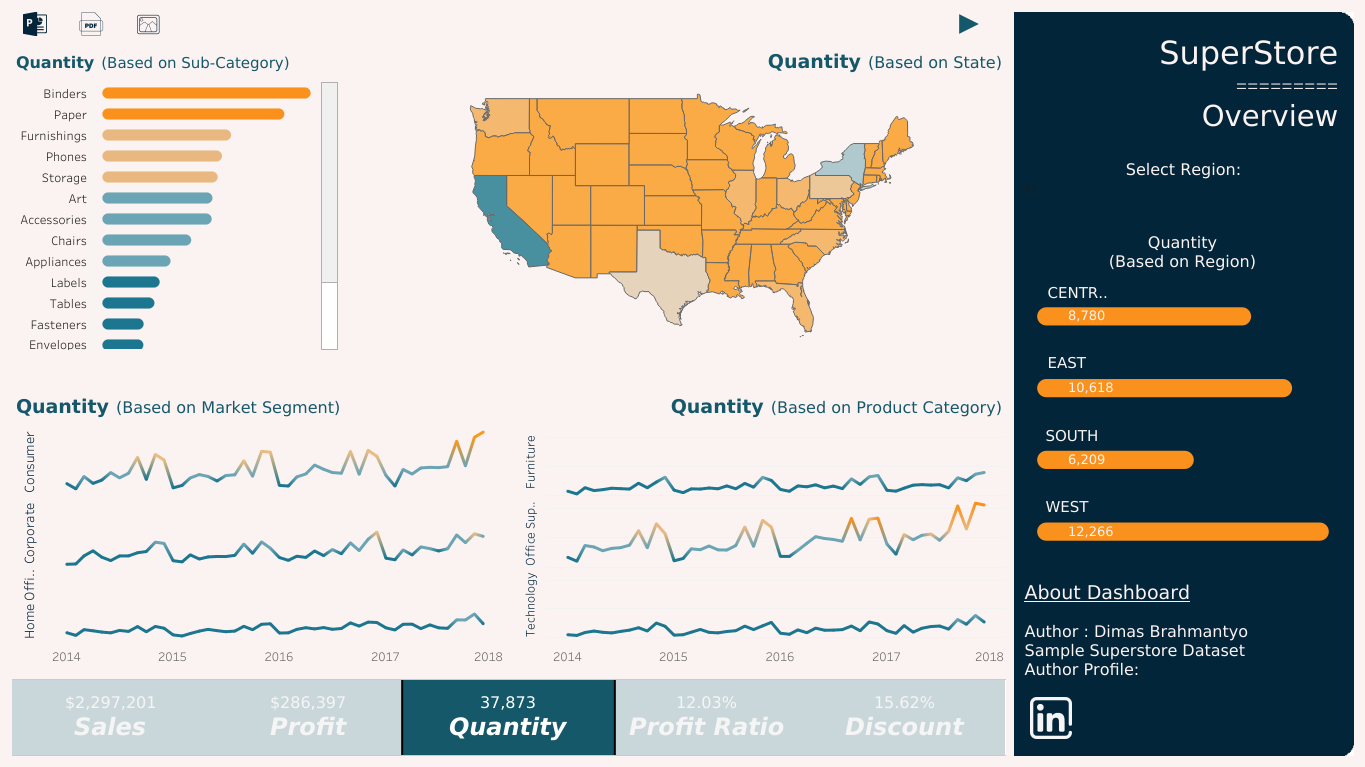

This screenshot's page, from the dashboard's own definition file:
{"tool":"tableau","page":{"name":"Dashboard 1 - Overview","canvas":[1366,768],"ordinal":0},"visuals":[{"type":"dashboard-object","box":[8,8,54,32]},{"type":"dashboard-object","box":[62,8,60,32]},{"type":"dashboard-object","box":[122,8,53,32]},{"type":"worksheet","title":"Next","mark":"Shape","rows":["Calculation_132293265469534221"],"box":[928,8,82,32]},{"type":"image","param":"Image/2.png","box":[1010,8,348,752]},{"type":"text","box":[1025,21,316,125]},{"type":"worksheet","title":"Sub Category Chart","mark":"Line","rows":["Sub-Category"],"box":[8,40,334,313]},{"type":"worksheet","title":"Based on State Map Chart","mark":"Automatic","box":[374,40,636,313]},{"type":"filter","title":"Based on State Map Chart","param":"[federated.1u37z9d020ffhv1e04nla11qurtp].[a1. Select Region Set]","box":[1022,159,323,55]},{"type":"worksheet","title":"Region Button","mark":"Line","rows":["Region"],"box":[1023,227,319,340]},{"type":"text","box":[1045,278,66,30]},{"type":"text","box":[1045,348,100,30]},{"type":"worksheet","title":"Market Segment Chart","mark":"Automatic","rows":["Segment","Calculation_1180506078081609731"],"cols":["Order Date"],"box":[8,385,501,290]},{"type":"worksheet","title":"Product Category Chart","mark":"Automatic","rows":["Category","Calculation_1180506078081609731"],"cols":["Order Date"],"box":[509,385,501,290]},{"type":"text","box":[1043,421,100,30]},{"type":"text","box":[1043,492,100,30]},{"type":"text","box":[1022,577,272,106]},{"type":"worksheet","title":"Field Button","mark":"Shape","box":[8,675,1002,85]},{"type":"worksheet","title":"LinkedIn","mark":"Shape","rows":["Calculation_1125055507973922816"],"box":[1022,691,57,53]}]}

Visuals, with their boxes in screenshot pixels (x1, y1, x2, y2), scaled from the page's 1366x768 canvas onto the 1365x767 screenshot:
dashboard-object: box(8, 8, 62, 40)
dashboard-object: box(62, 8, 122, 40)
dashboard-object: box(122, 8, 175, 40)
"Next" worksheet (Shape marks): box(927, 8, 1009, 40)
image: box(1009, 8, 1357, 759)
text: box(1024, 21, 1340, 146)
"Sub Category Chart" worksheet (Line marks): box(8, 40, 342, 353)
"Based on State Map Chart" worksheet: box(374, 40, 1009, 353)
"Based on State Map Chart" filter: box(1021, 159, 1344, 214)
"Region Button" worksheet (Line marks): box(1022, 227, 1341, 566)
text: box(1044, 278, 1110, 308)
text: box(1044, 348, 1144, 378)
"Market Segment Chart" worksheet: box(8, 384, 509, 674)
"Product Category Chart" worksheet: box(509, 384, 1009, 674)
text: box(1042, 420, 1142, 450)
text: box(1042, 491, 1142, 521)
text: box(1021, 576, 1293, 682)
"Field Button" worksheet (Shape marks): box(8, 674, 1009, 759)
"LinkedIn" worksheet (Shape marks): box(1021, 690, 1078, 743)
